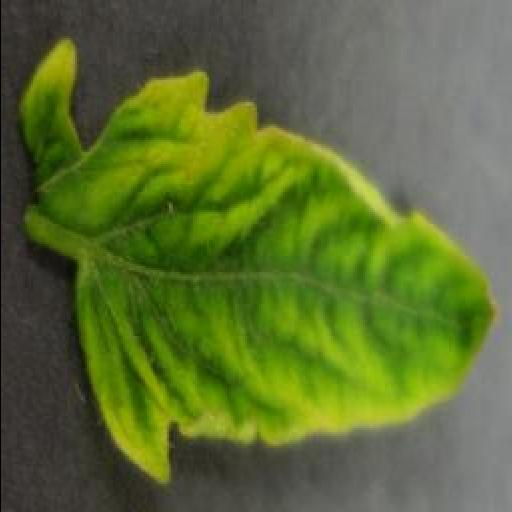disease_tomato: (18, 42, 500, 484)
